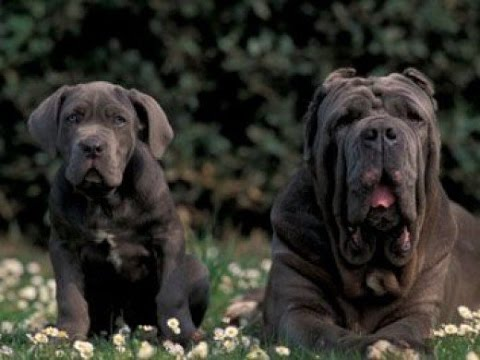neapolitan_mastiff: (227, 66, 480, 359), (26, 80, 211, 350)
